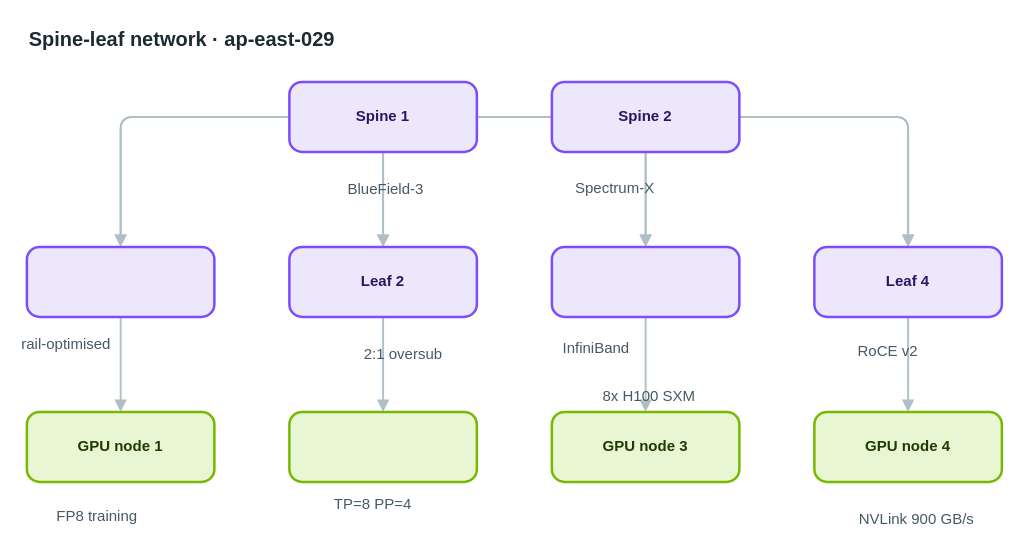
This 1026x550 diagram has some shape labels left out. Each missing label, with the centre of its shape:
"GPU node 2" belongs at point (383, 446).
"Leaf 1" belongs at point (120, 281).
"Leaf 3" belongs at point (645, 281).
